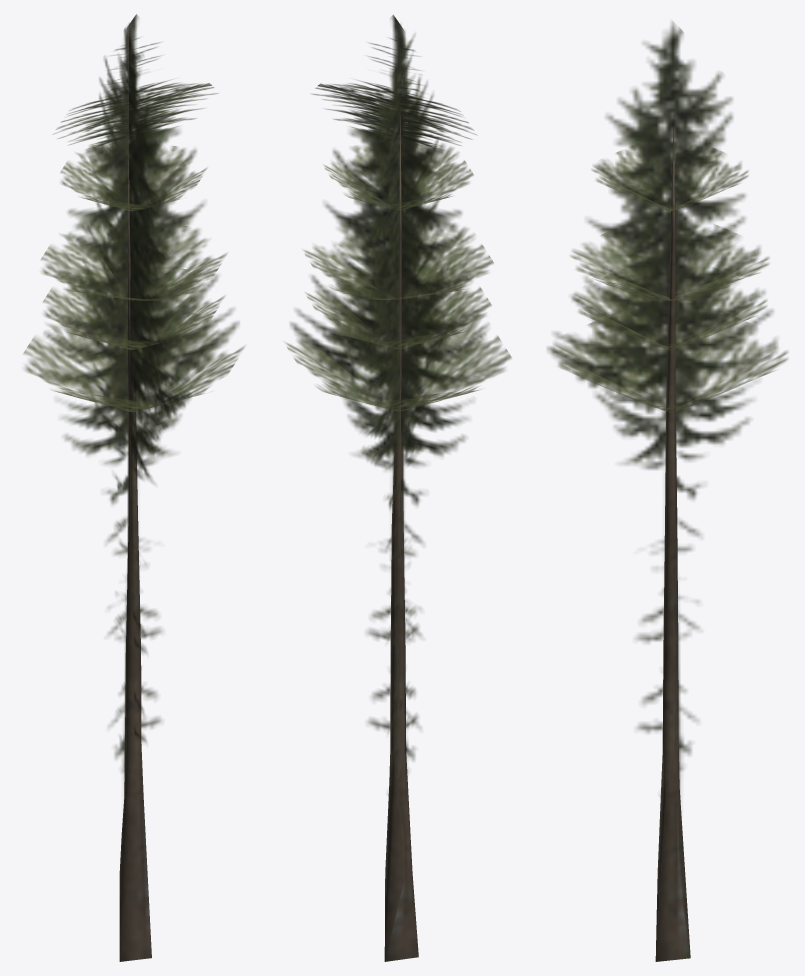
The model's file is forest_tree_6.glb.
The picture shows the model from 3 angles, left to right: view 1: azimuth 30°, elevation 25°; view 2: azimuth 150°, elevation 25°; view 3: azimuth 270°, elevation 25°; orthographic projection.
Visible parts, largest first — view 1: Background_Tree_Atlas.006_Background_Tree_Atlas_0; view 2: Background_Tree_Atlas.006_Background_Tree_Atlas_0; view 3: Background_Tree_Atlas.006_Background_Tree_Atlas_0.
Boxes of the visible parts, left/top/right/bottom form: Background_Tree_Atlas.006_Background_Tree_Atlas_0: left=23, top=14, right=244, bottom=961; Background_Tree_Atlas.006_Background_Tree_Atlas_0: left=285, top=15, right=511, bottom=961; Background_Tree_Atlas.006_Background_Tree_Atlas_0: left=547, top=21, right=787, bottom=961.
Bounding box in the file's own units: 3.05 × 12.89 × 3.03.
1 material, 1 textured.
